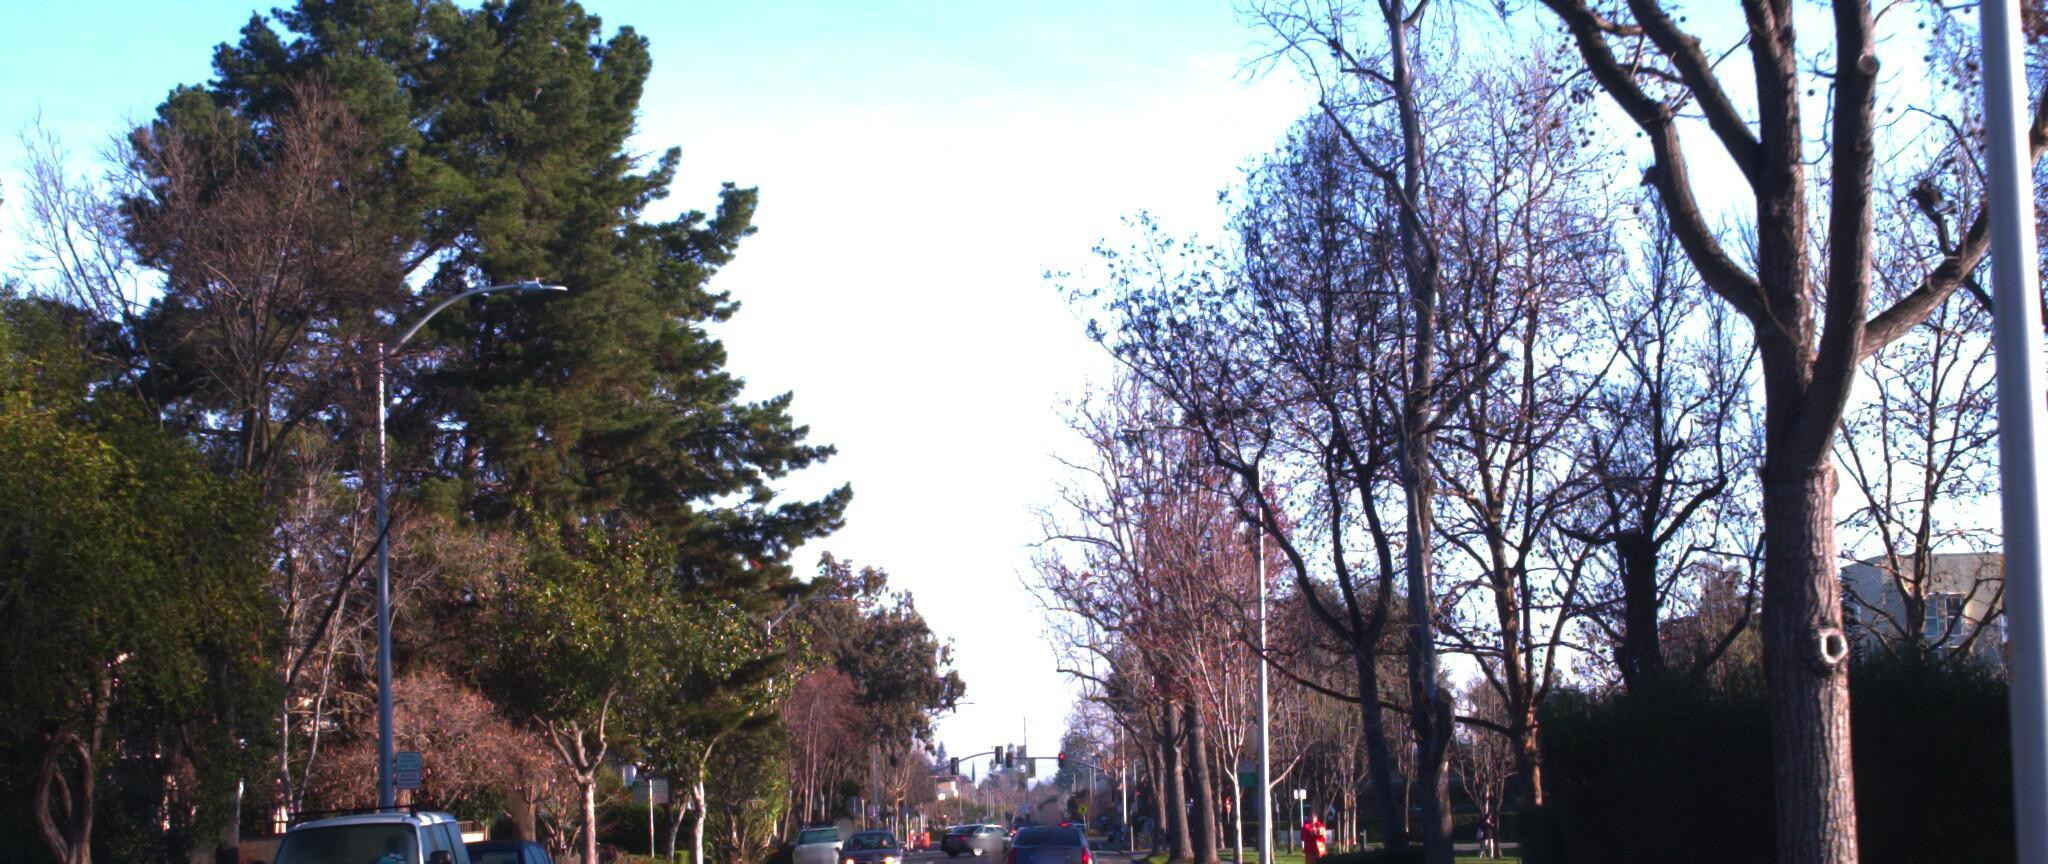car: (226, 780, 492, 864), (400, 816, 576, 864), (994, 807, 1108, 864), (0, 841, 146, 864)
